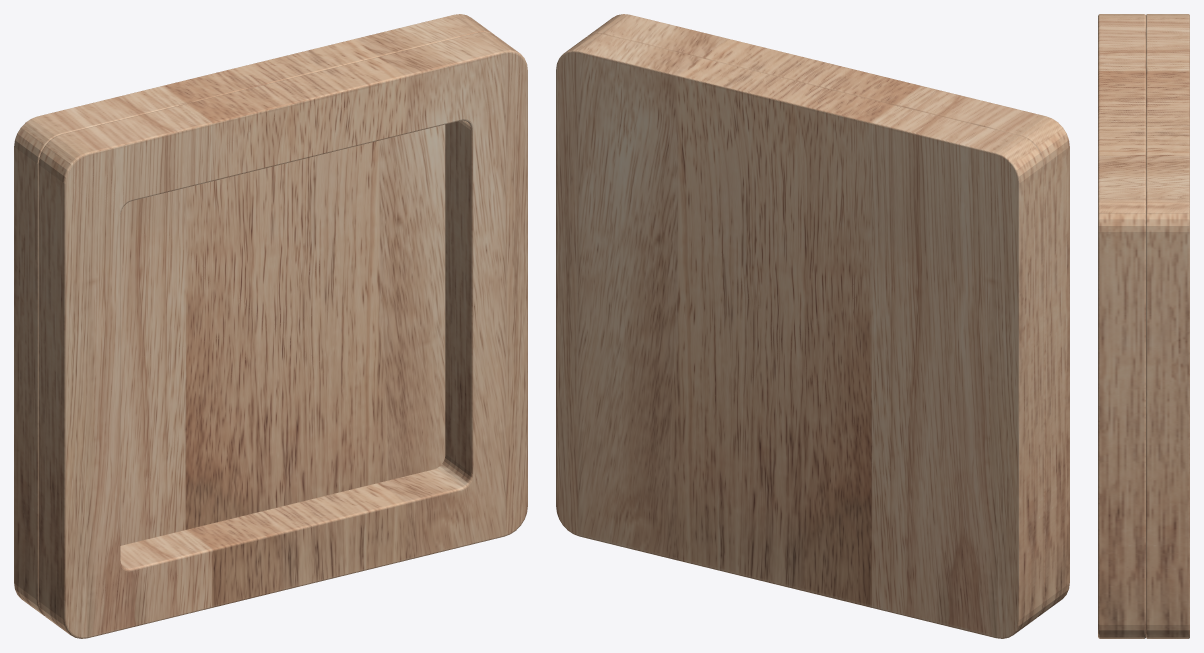
File: photo-frame-natural.glb
The picture shows the model from 3 angles, left to right: view 1: azimuth 30°, elevation 25°; view 2: azimuth 150°, elevation 25°; view 3: azimuth 270°, elevation 25°; orthographic projection. The views are drawn at different scales.
Parts seen in each view (by area): view 1: Cube.001; view 2: Cube.001; view 3: Cube.001.
Part boxes in pixels (x1=…): Cube.001: x1=14, y1=14, x2=527, y2=638; Cube.001: x1=556, y1=14, x2=1069, y2=638; Cube.001: x1=1098, y1=14, x2=1189, y2=638.
Size of the model in its own units: 0.1 by 0.1 by 0.019.
Materials: 1 (1 with a texture image).
